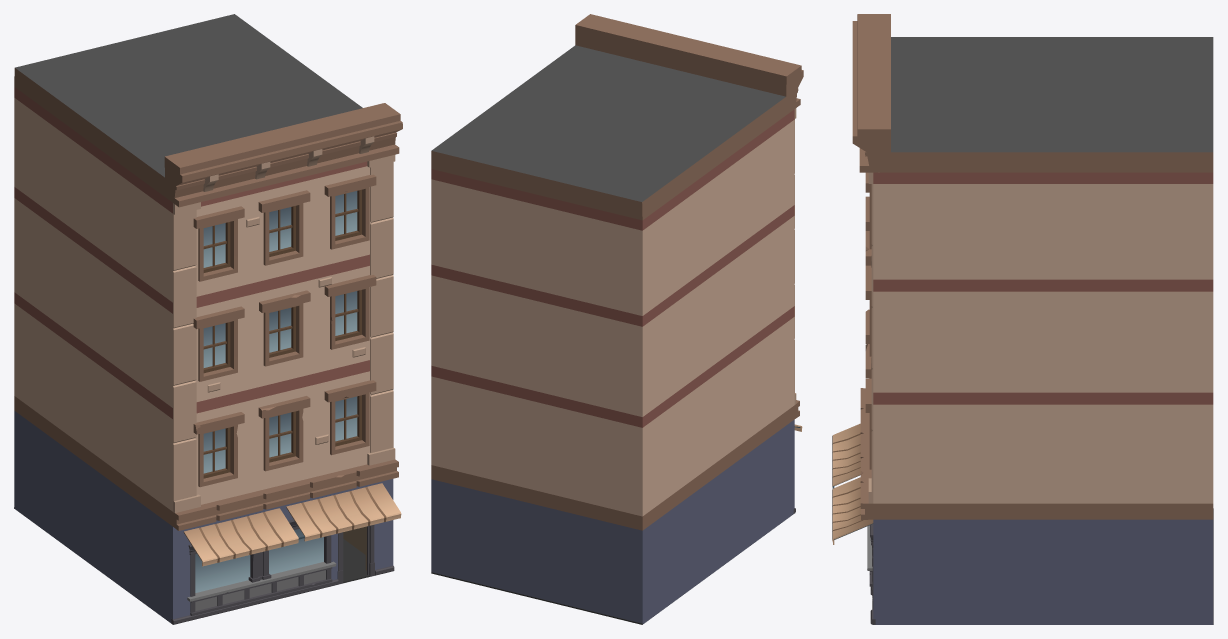
File: SM_Buildings_House_11_V2.fbx
The picture shows the model from 3 angles, left to right: view 1: azimuth 30°, elevation 25°; view 2: azimuth 150°, elevation 25°; view 3: azimuth 270°, elevation 25°; orthographic projection. The views are drawn at different scales.
Parts seen in each view (by area): view 1: SM_Buildings_House_11_V2; view 2: SM_Buildings_House_11_V2; view 3: SM_Buildings_House_11_V2.
Boxes of the visible parts, bbox=[...] form: SM_Buildings_House_11_V2: bbox=[14, 14, 402, 624]; SM_Buildings_House_11_V2: bbox=[431, 14, 803, 624]; SM_Buildings_House_11_V2: bbox=[832, 14, 1213, 624].
Bounding box in the file's own units: 8.74 × 17.49 × 12.19.
